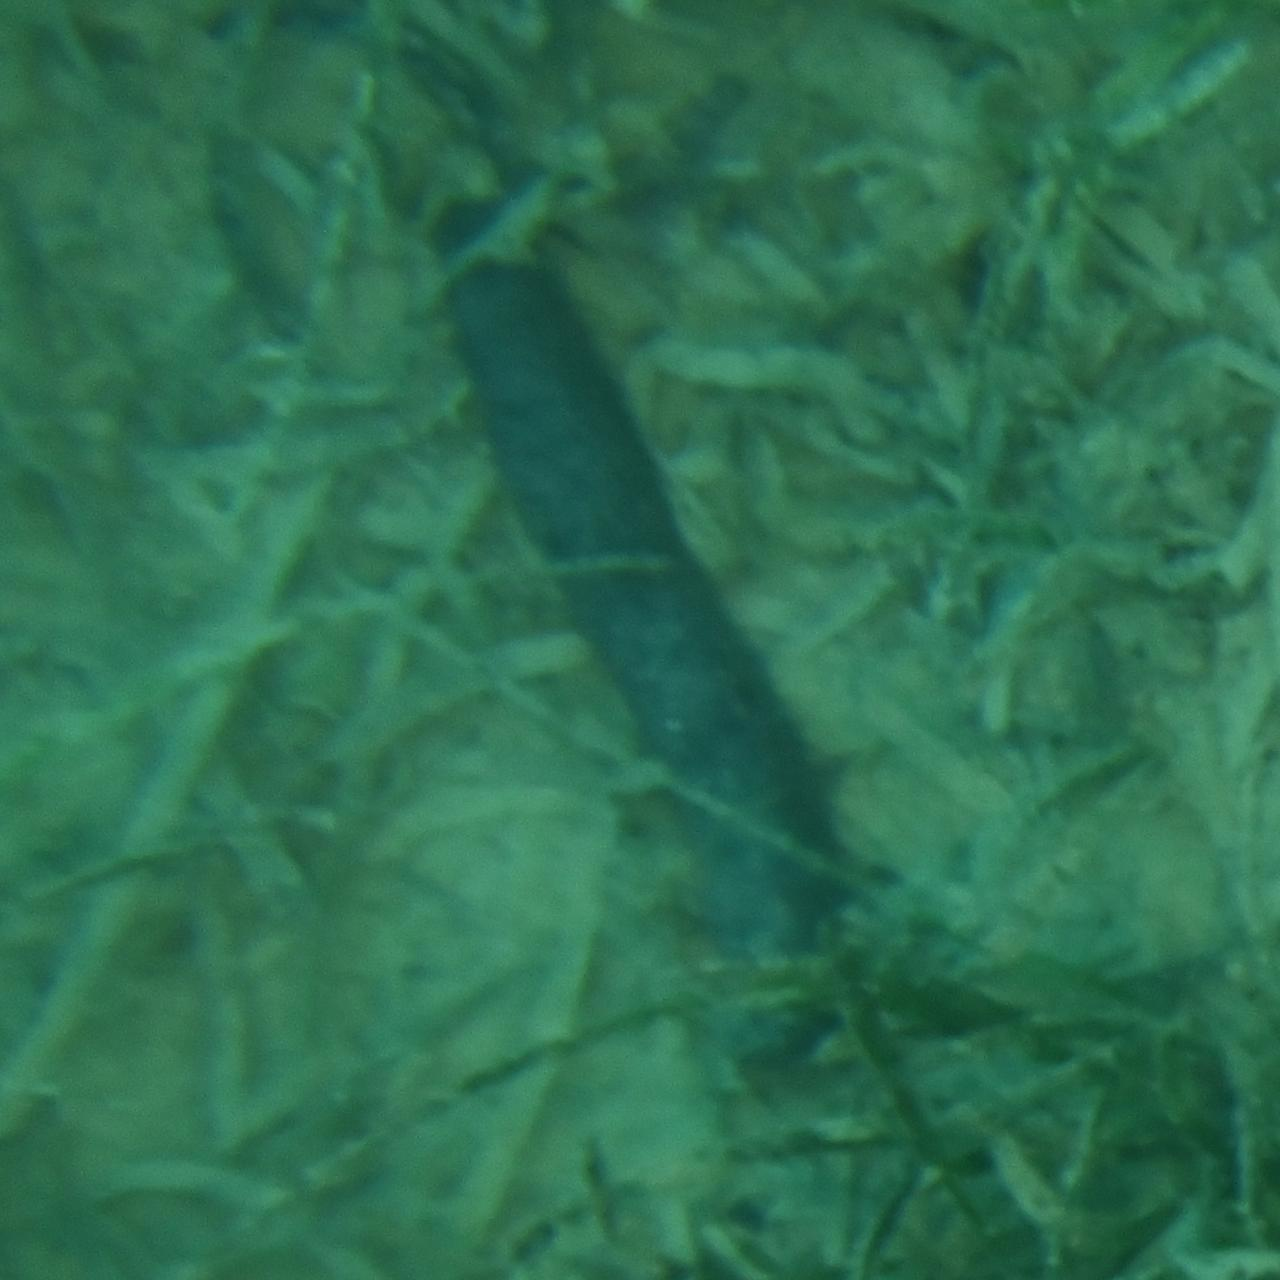Holothuria tubulosa: (423, 200, 857, 1080)
